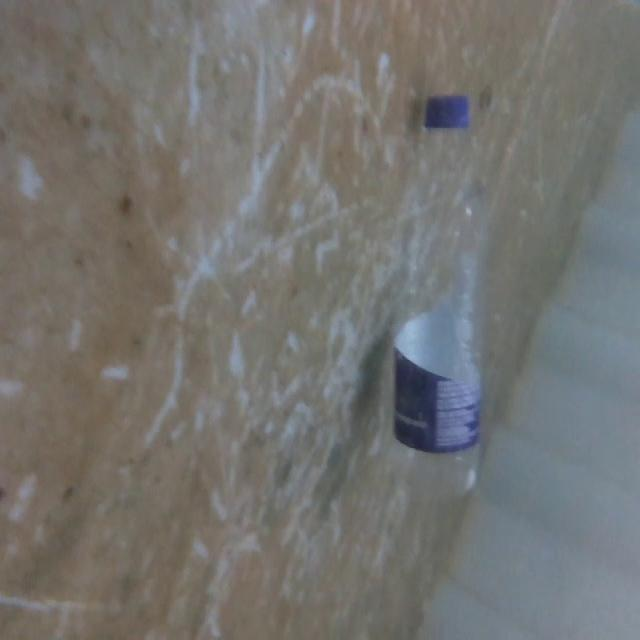plastic bottle: (381, 84, 495, 502)
